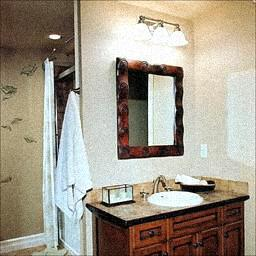Armario: (92, 193, 246, 253)
Ducha: (47, 57, 86, 253)
Lavamanos: (141, 173, 209, 209)
